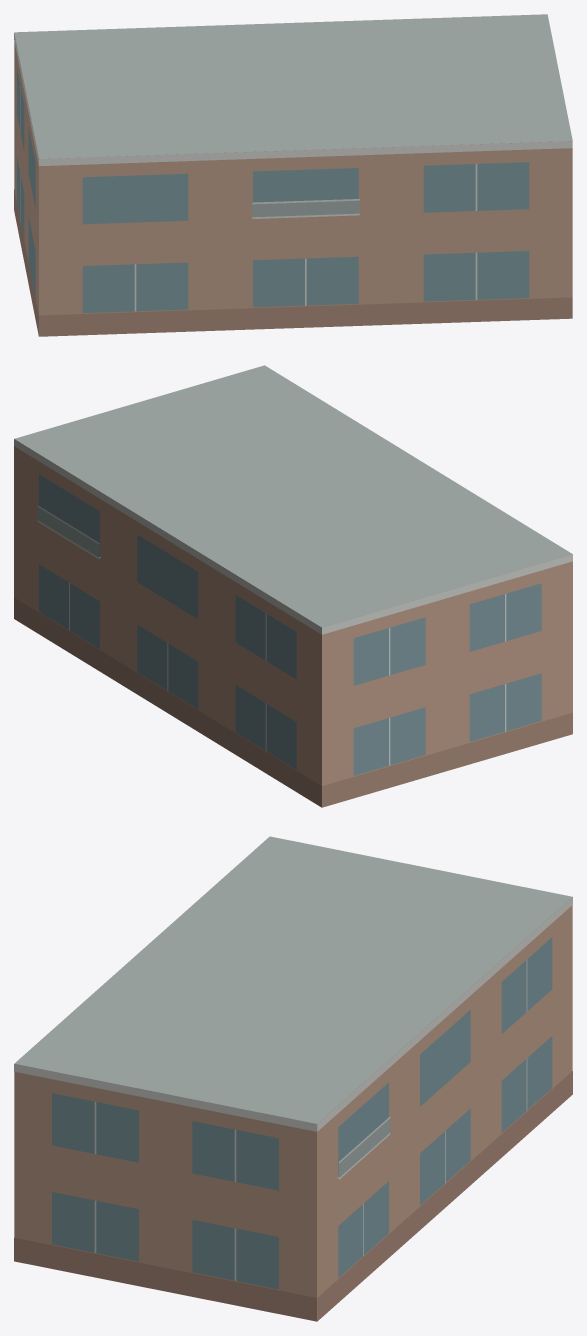
The model's file is survey-upis-32679218.glb.
3 views of the same model, one above another, from view 1: azimuth 30°, elevation 25°; view 2: azimuth 150°, elevation 25°; view 3: azimuth 270°, elevation 25° (orthographic). The views are drawn at different scales.
Visible parts, largest first — view 1: survey-upis-32679218.tmp; view 2: survey-upis-32679218.tmp; view 3: survey-upis-32679218.tmp.
Boxes of the visible parts, box(x1,y1,x2,y2) form: survey-upis-32679218.tmp: box(14, 14, 572, 336); survey-upis-32679218.tmp: box(14, 365, 572, 807); survey-upis-32679218.tmp: box(14, 836, 572, 1321).
Size of the model in its own units: 19.06 by 6.1 by 15.64.
